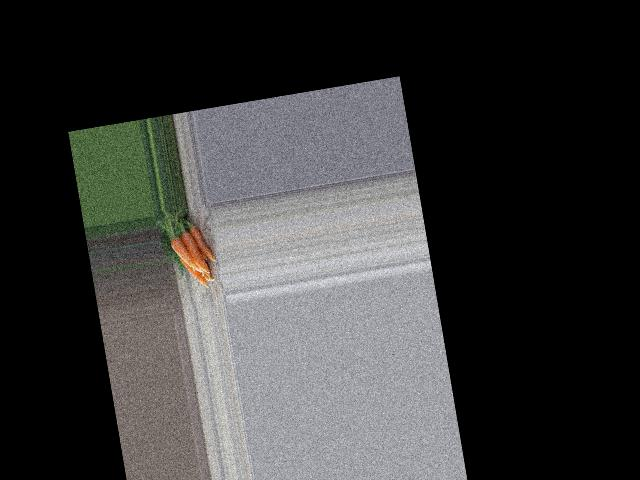carrot: (187, 222, 216, 269)
